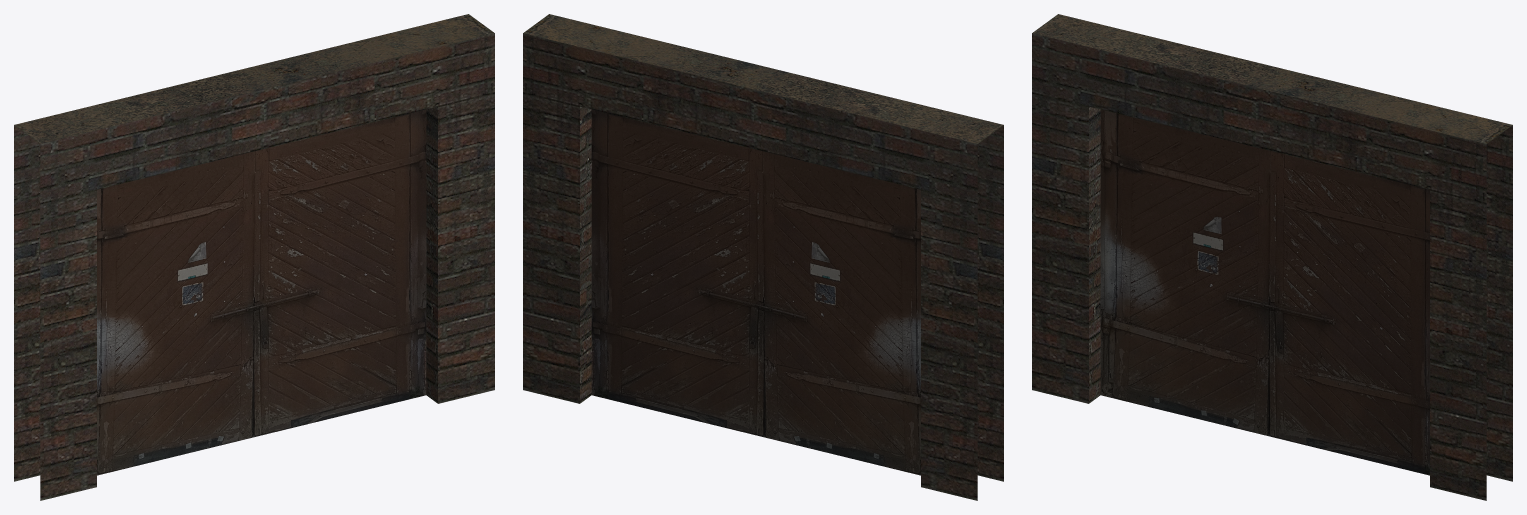
File: garage_door_frame_hs_2.obj
3 views of the same model, side by side, from view 1: azimuth 30°, elevation 25°; view 2: azimuth 150°, elevation 25°; view 3: azimuth 330°, elevation 25° (orthographic).
Parts seen in each view (by area): view 1: garage_door_hm_7, garage_door_frame_hs_2; view 2: garage_door_hm_7, garage_door_frame_hs_2; view 3: garage_door_hm_7, garage_door_frame_hs_2.
Part boxes in pixels (bbox=[...]): garage_door_hm_7: bbox=[97, 109, 426, 475]; garage_door_frame_hs_2: bbox=[14, 14, 494, 500]; garage_door_hm_7: bbox=[591, 109, 920, 475]; garage_door_frame_hs_2: bbox=[523, 14, 1003, 500]; garage_door_hm_7: bbox=[1100, 109, 1429, 475]; garage_door_frame_hs_2: bbox=[1032, 14, 1512, 500].
Size of the model in its own units: 4 by 3 by 0.4.
